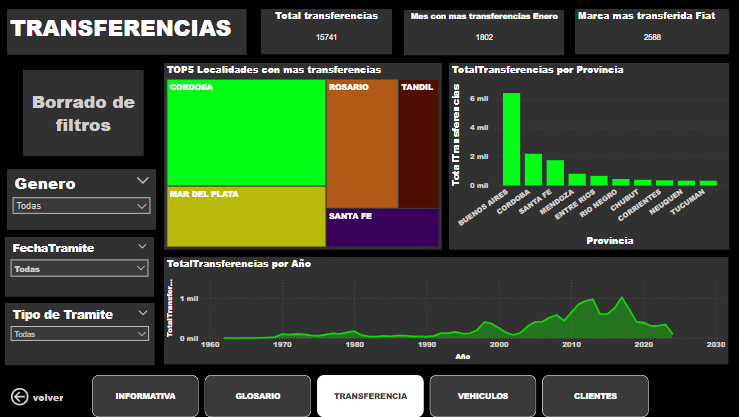

This screenshot's page, from the dashboard's own definition file:
{"tool":"powerbi","page":{"name":"TRANSFERENCIA","canvas":[1280,720],"ordinal":2},"visuals":[{"type":"textbox","box":[12.3,15.4,412.8,78.6],"z":0},{"type":"slicer","fields":{"Values":["GENERO.Genero"]},"box":[11.7,291.7,256.7,105],"z":1000},{"type":"slicer","fields":{"Values":["TRANSFERENCIAS.FechaTramite"]},"box":[8.3,408.3,256.7,103.3],"z":2000},{"type":"slicer","fields":{"Values":["TIPO_TRAMITE.TipoTramite"]},"box":[8.3,521.7,258.3,106.7],"z":3000},{"type":"card","title":"Total transferencias","fields":{"Values":["Z_Medidas.TotalTransferencias"]},"box":[449.3,15.8,226.1,77.8],"z":4000},{"type":"card","title":"Marca mas transferida Fiat","fields":{"Values":["Z_Medidas.TotalTransferencias"]},"box":[990.7,15.8,266.4,77.8],"z":5000},{"type":"pageNavigator","box":[158.4,646.6,960.5,73.4],"z":6000},{"type":"card","title":"Mes con mas transferencias Enero","fields":{"Values":["Z_Medidas.TotalTransferencias"]},"box":[697,17.3,276.5,77.8],"z":7000},{"type":"treemap","title":"TOP5 Localidades con mas transferencias","fields":{"Values":["Z_Medidas.TotalTransferencias"],"Group":["LOCALIDAD.Localidad"]},"box":[282.5,107.9,479.4,322.2],"z":8000},{"type":"clusteredColumnChart","fields":{"Y":["Z_Medidas.TotalTransferencias"],"Category":["PROVINCIA.Provincia"]},"box":[774.6,107.9,482.5,322.2],"z":9000},{"type":"stackedAreaChart","fields":{"Category":["TablaCalendario.Año"],"Y":["Z_Medidas.TotalTransferencias"]},"box":[283.3,443.3,973.3,185],"z":10000},{"type":"actionButton","title":"Borrado de filtros","box":[39.3,120.7,208,148.4],"z":11000},{"type":"actionButton","box":[13,663.8,99.4,40.3],"z":12000}]}

Visuals, with their boxes in screenshot pixels (x1, y1, x2, y2), scaled from the page's 1280x720 canvas onto the 739x417 screenshot:
textbox: locate(7, 9, 245, 54)
slicer - GENERO.Genero: locate(7, 169, 155, 230)
slicer - TRANSFERENCIAS.FechaTramite: locate(5, 236, 153, 296)
slicer - TIPO_TRAMITE.TipoTramite: locate(5, 302, 154, 364)
"Total transferencias" card: locate(259, 9, 390, 54)
"Marca mas transferida Fiat" card: locate(572, 9, 726, 54)
pageNavigator: locate(91, 374, 646, 416)
"Mes con mas transferencias Enero" card: locate(402, 10, 562, 55)
"TOP5 Localidades con mas transferencias" treemap: locate(163, 62, 440, 249)
clusteredColumnChart - Z_Medidas.TotalTransferencias x PROVINCIA.Provincia: locate(447, 62, 726, 249)
stackedAreaChart - TablaCalendario.Año x Z_Medidas.TotalTransferencias: locate(164, 257, 725, 364)
"Borrado de filtros" actionButton: locate(23, 70, 143, 156)
actionButton: locate(8, 384, 65, 408)
